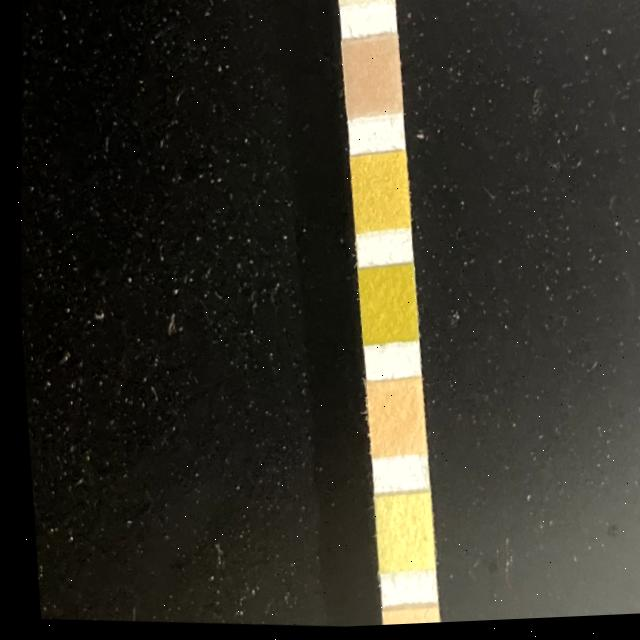Bilirubin: (338, 0, 391, 5)
Blood: (353, 272, 412, 343)
Ketone: (340, 44, 400, 117)
Protein: (368, 498, 425, 573)
SpGravity: (346, 159, 406, 229)
Urobilinogen: (377, 614, 429, 628)
pH: (359, 386, 419, 456)
